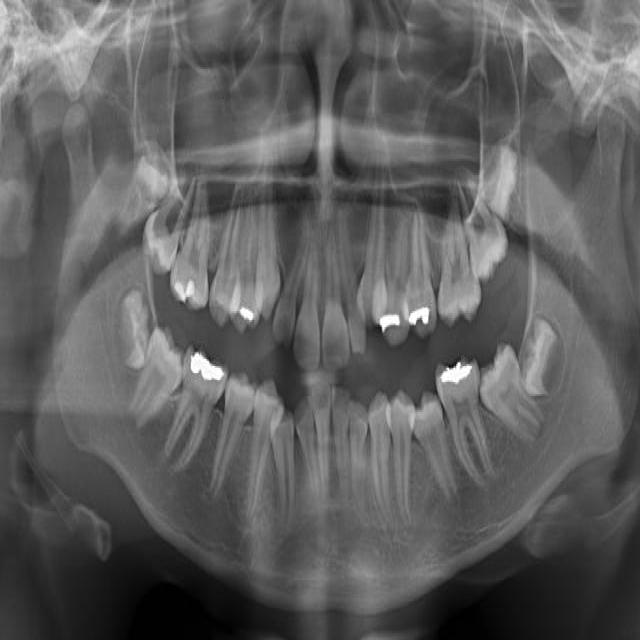dolgu: (181, 336, 226, 407), (434, 349, 475, 396), (376, 290, 408, 348), (224, 286, 265, 330), (404, 298, 437, 335)
